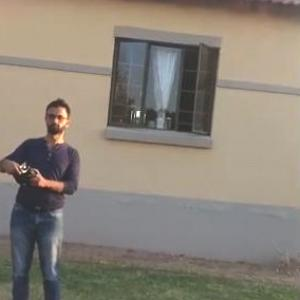follow: (0, 93, 85, 299)
null: (266, 241, 299, 281)
